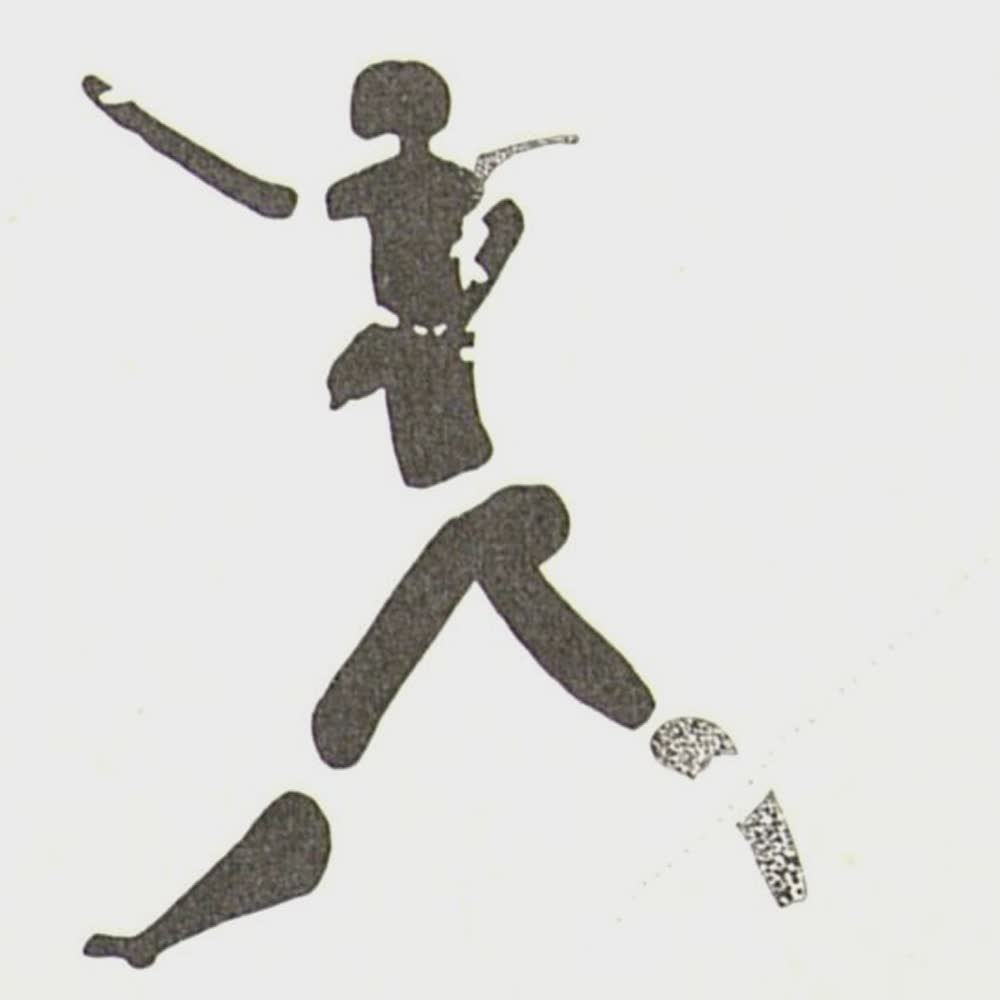woman: (84, 59, 815, 968)
